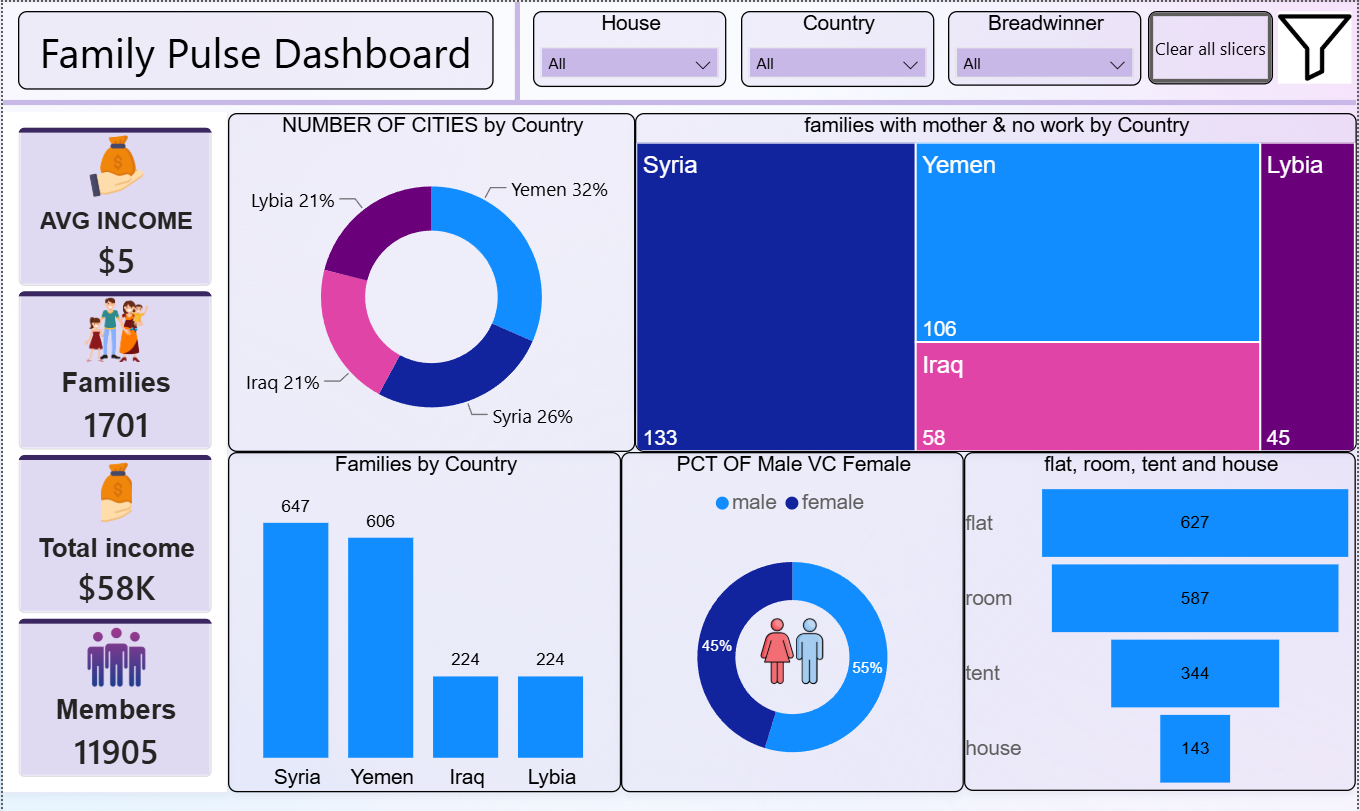

The page's visual inventory and layout, read from the dashboard file:
{"tool":"powerbi","page":{"name":"Page 1","canvas":[1050,630],"ordinal":0},"visuals":[{"type":"textbox","box":[11.5,7.1,368.9,61.2],"z":0},{"type":"shape","box":[0.3,3.1,1049.7,149.7],"z":1000},{"type":"shape","box":[387.5,0,23.9,78],"z":2000},{"type":"slicer","title":"House","fields":{"Values":["Needs.House"]},"box":[411.4,7.1,150,58.5],"z":3000},{"type":"slicer","title":"Country","fields":{"Values":["Needs.Country"]},"box":[572.6,7,149.7,59],"z":4000},{"type":"cardVisual","fields":{"Data":["measure.AVG PER CAPITA INCOME","measure.families","measure.total income","measure.members"]},"box":[0,85.7,174.4,528.1],"z":5000},{"type":"image","box":[989.2,2.3,56.6,65.9],"z":5001},{"type":"donutChart","fields":{"Y":["measure.NUMBER OF CITIES"],"Category":["Needs.Country"]},"box":[174.7,86,315.7,263.3],"z":5002},{"type":"treemap","fields":{"Group":["Needs.Country","Needs.City"],"Values":["measure.families with mother & no work"]},"box":[490.3,86,559.5,263.3],"z":5003},{"type":"clusteredColumnChart","fields":{"Y":["measure.Families"],"Category":["Needs.Country"]},"box":[174.7,349.4,305,264.2],"z":5004},{"type":"donutChart","title":"PCT OF Male VC Female","fields":{"Y":["measure.male","measure.female"]},"box":[479.7,349.4,266,264.2],"z":5005},{"type":"funnel","fields":{"Y":["measure.flat","measure.room","measure.tent","measure.house"]},"box":[745.7,349.4,304.1,263.3],"z":5006},{"type":"slicer","title":"Breadwinner","fields":{"Values":["Needs.Breadwinner"]},"box":[733.2,7,149.7,58.2],"z":5007},{"type":"actionButton","box":[888.4,7,97,56.6],"z":5008},{"type":"image","box":[586.7,463.3,50.8,81.2],"z":5009}]}

Visuals, with their boxes in screenshot pixels (x1, y1, x2, y2), scaled from the page's 1050x630 canvas onto the 1360x811 screenshot:
textbox: {"left": 15, "top": 9, "right": 493, "bottom": 88}
shape: {"left": 0, "top": 4, "right": 1359, "bottom": 197}
shape: {"left": 502, "top": 0, "right": 533, "bottom": 100}
"House" slicer: {"left": 533, "top": 9, "right": 727, "bottom": 84}
"Country" slicer: {"left": 742, "top": 9, "right": 936, "bottom": 85}
cardVisual - measure.AVG PER CAPITA INCOME x measure.families: {"left": 0, "top": 110, "right": 226, "bottom": 790}
image: {"left": 1281, "top": 3, "right": 1355, "bottom": 88}
donutChart - measure.NUMBER OF CITIES x Needs.Country: {"left": 226, "top": 111, "right": 635, "bottom": 450}
treemap - Needs.Country x Needs.City: {"left": 635, "top": 111, "right": 1359, "bottom": 450}
clusteredColumnChart - measure.Families x Needs.Country: {"left": 226, "top": 450, "right": 621, "bottom": 790}
"PCT OF Male VC Female" donutChart: {"left": 621, "top": 450, "right": 966, "bottom": 790}
funnel - measure.flat x measure.room: {"left": 966, "top": 450, "right": 1359, "bottom": 789}
"Breadwinner" slicer: {"left": 950, "top": 9, "right": 1144, "bottom": 84}
actionButton: {"left": 1151, "top": 9, "right": 1276, "bottom": 82}
image: {"left": 760, "top": 596, "right": 826, "bottom": 701}
